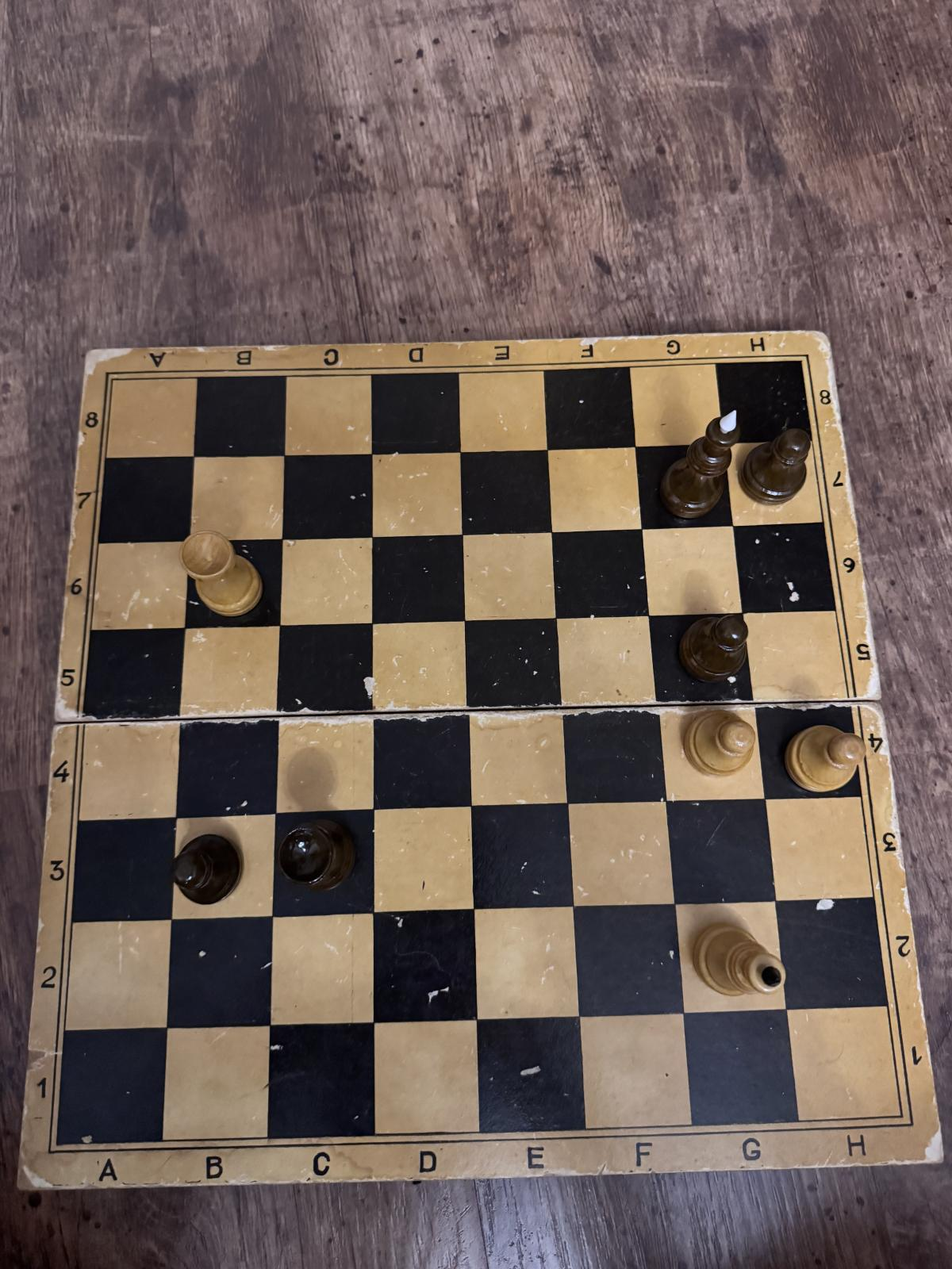Chess-Board: (57, 361, 902, 1145)
